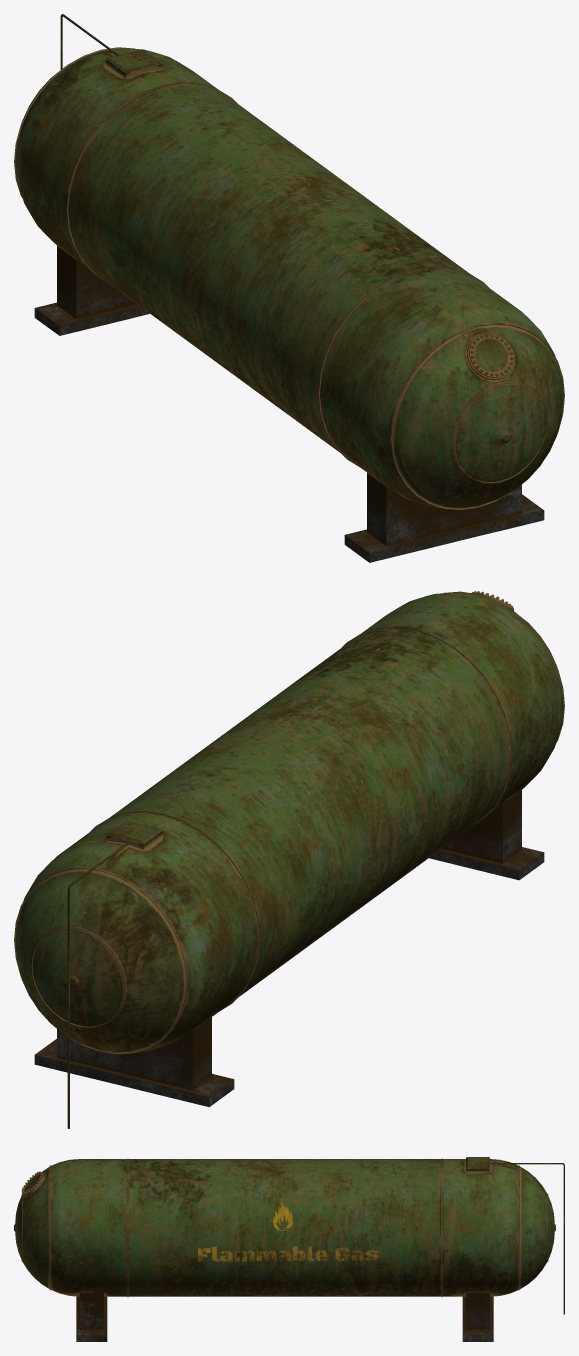
Rendered from horizontal_fuel_tank.glb.
3 renders of one model, top to bottom at view 1: azimuth 30°, elevation 25°; view 2: azimuth 150°, elevation 25°; view 3: azimuth 270°, elevation 25°, orthographic. The views are drawn at different scales.
Visible parts, largest first — view 1: Gas tank Horizontal; view 2: Gas tank Horizontal; view 3: Gas tank Horizontal.
Boxes of the visible parts, left/top/right/bottom form: Gas tank Horizontal: left=14, top=14, right=564, bottom=562; Gas tank Horizontal: left=14, top=591, right=564, bottom=1128; Gas tank Horizontal: left=14, top=1157, right=564, bottom=1341.
Size of the model in its own units: 2.02 by 2.45 by 7.99.
2 materials, 2 textured.
